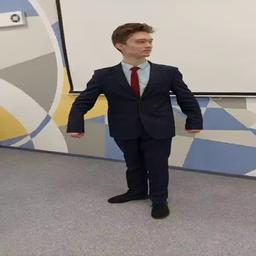person: (66, 23, 202, 218)
